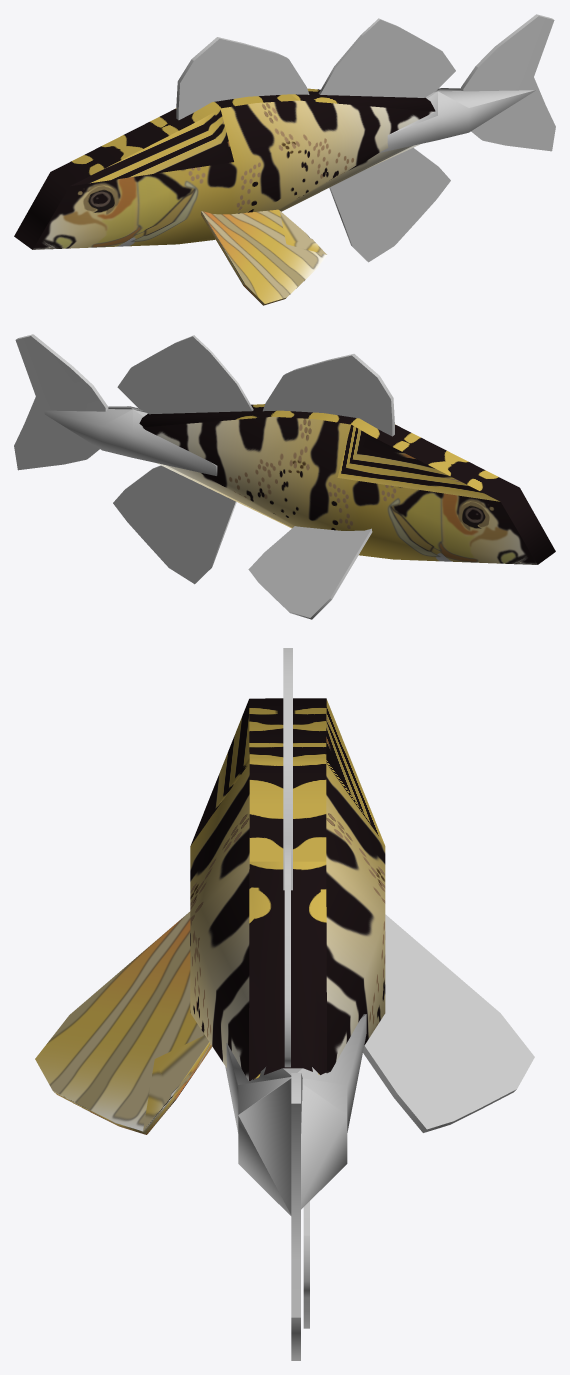
File: fish.FBX
3 renders of one model, top to bottom at view 1: azimuth 30°, elevation 25°; view 2: azimuth 150°, elevation 25°; view 3: azimuth 270°, elevation 25°, orthographic. The views are drawn at different scales.
Parts seen in each view (by area): view 1: Box001, Box006, Box008, Box003, Box005, Box004, Box007; view 2: Box001, Box006, Box003, Box009, Box005, Box004, Box007; view 3: Box001, Box008, Box009, Box007, Box003, Box004, Box005, Box006.
Boxes of the visible parts, box(x1,y1,x2,y2) form: Box001: box(14, 88, 435, 249); Box006: box(329, 147, 450, 262); Box008: box(201, 209, 326, 305); Box003: box(461, 14, 555, 151); Box005: box(318, 18, 455, 97); Box004: box(176, 37, 309, 120); Box007: box(379, 88, 535, 152); Box001: box(139, 404, 555, 564); Box006: box(113, 465, 236, 584); Box003: box(14, 334, 108, 470); Box009: box(248, 526, 372, 619); Box005: box(117, 335, 253, 414); Box004: box(263, 354, 394, 436); Box007: box(44, 406, 217, 475); Box001: box(190, 698, 385, 1080); Box008: box(35, 911, 212, 1134); Box009: box(363, 914, 534, 1132); Box007: box(225, 1014, 366, 1215); Box003: box(291, 1073, 302, 1360); Box004: box(283, 648, 292, 890); Box005: box(284, 844, 290, 1067); Box006: box(303, 1201, 309, 1328).
Size of the model in its own units: 71.52 by 33.95 by 29.23.
